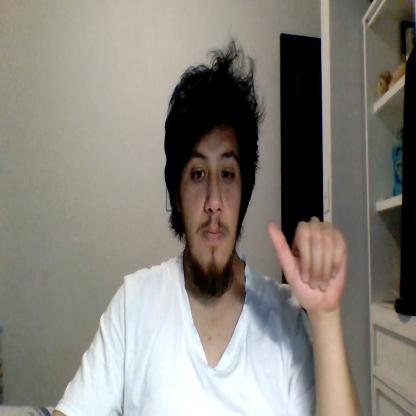A: (269, 217, 347, 311)
